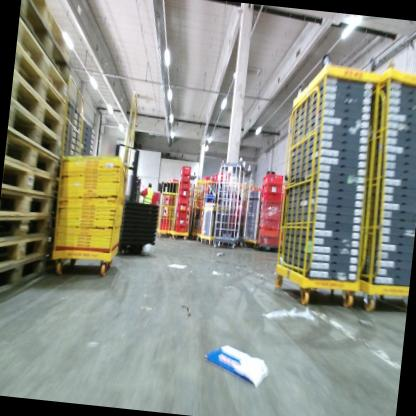pallet: (13, 0, 78, 84), (11, 18, 74, 104), (12, 41, 71, 122), (8, 70, 65, 140), (6, 94, 62, 163), (15, 0, 77, 61), (4, 127, 61, 176), (0, 247, 46, 306), (0, 203, 51, 253), (1, 157, 57, 202), (0, 232, 50, 275), (0, 185, 54, 222)
